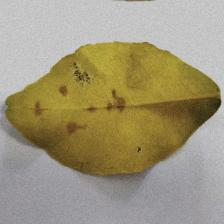canker: (22, 64, 130, 136)
